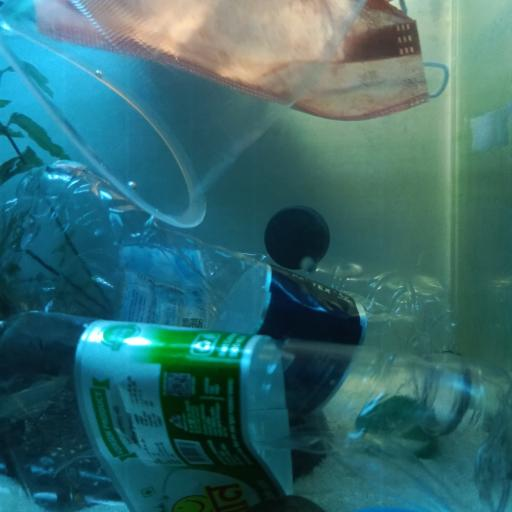bottle_cap: (259, 202, 331, 266)
mask: (30, 0, 452, 124)
plastic_bottle: (0, 162, 490, 422), (0, 312, 512, 512), (47, 232, 454, 346)
plastic_cup: (0, 0, 373, 228)
